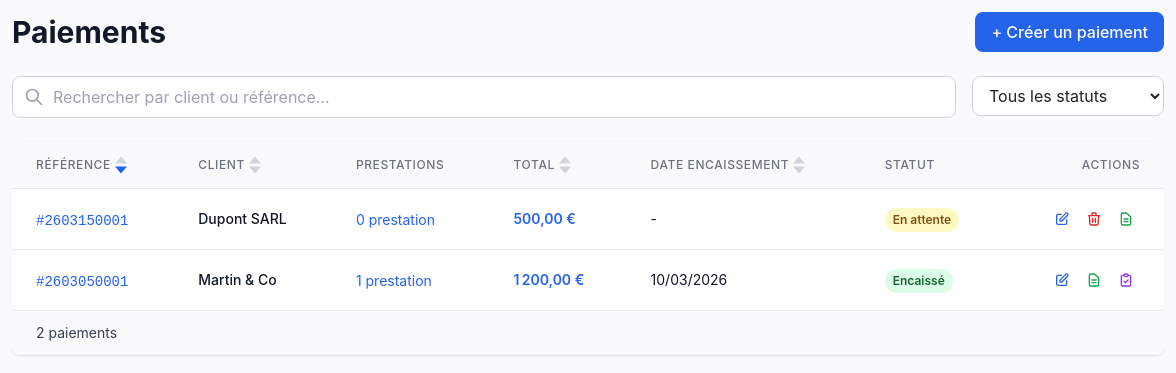
Test: Paiements page › filters paiements when searching by client name
Type "Dupont" into the field with placeholder "Rechercher par client ou référence...". click: (484, 97)
box: [12,76,956,118]
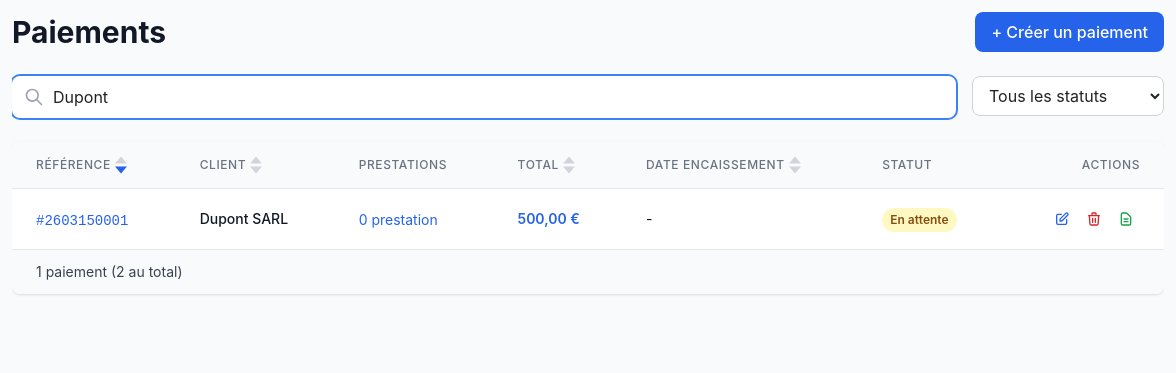
Now the text "Martin & Co" is gone
